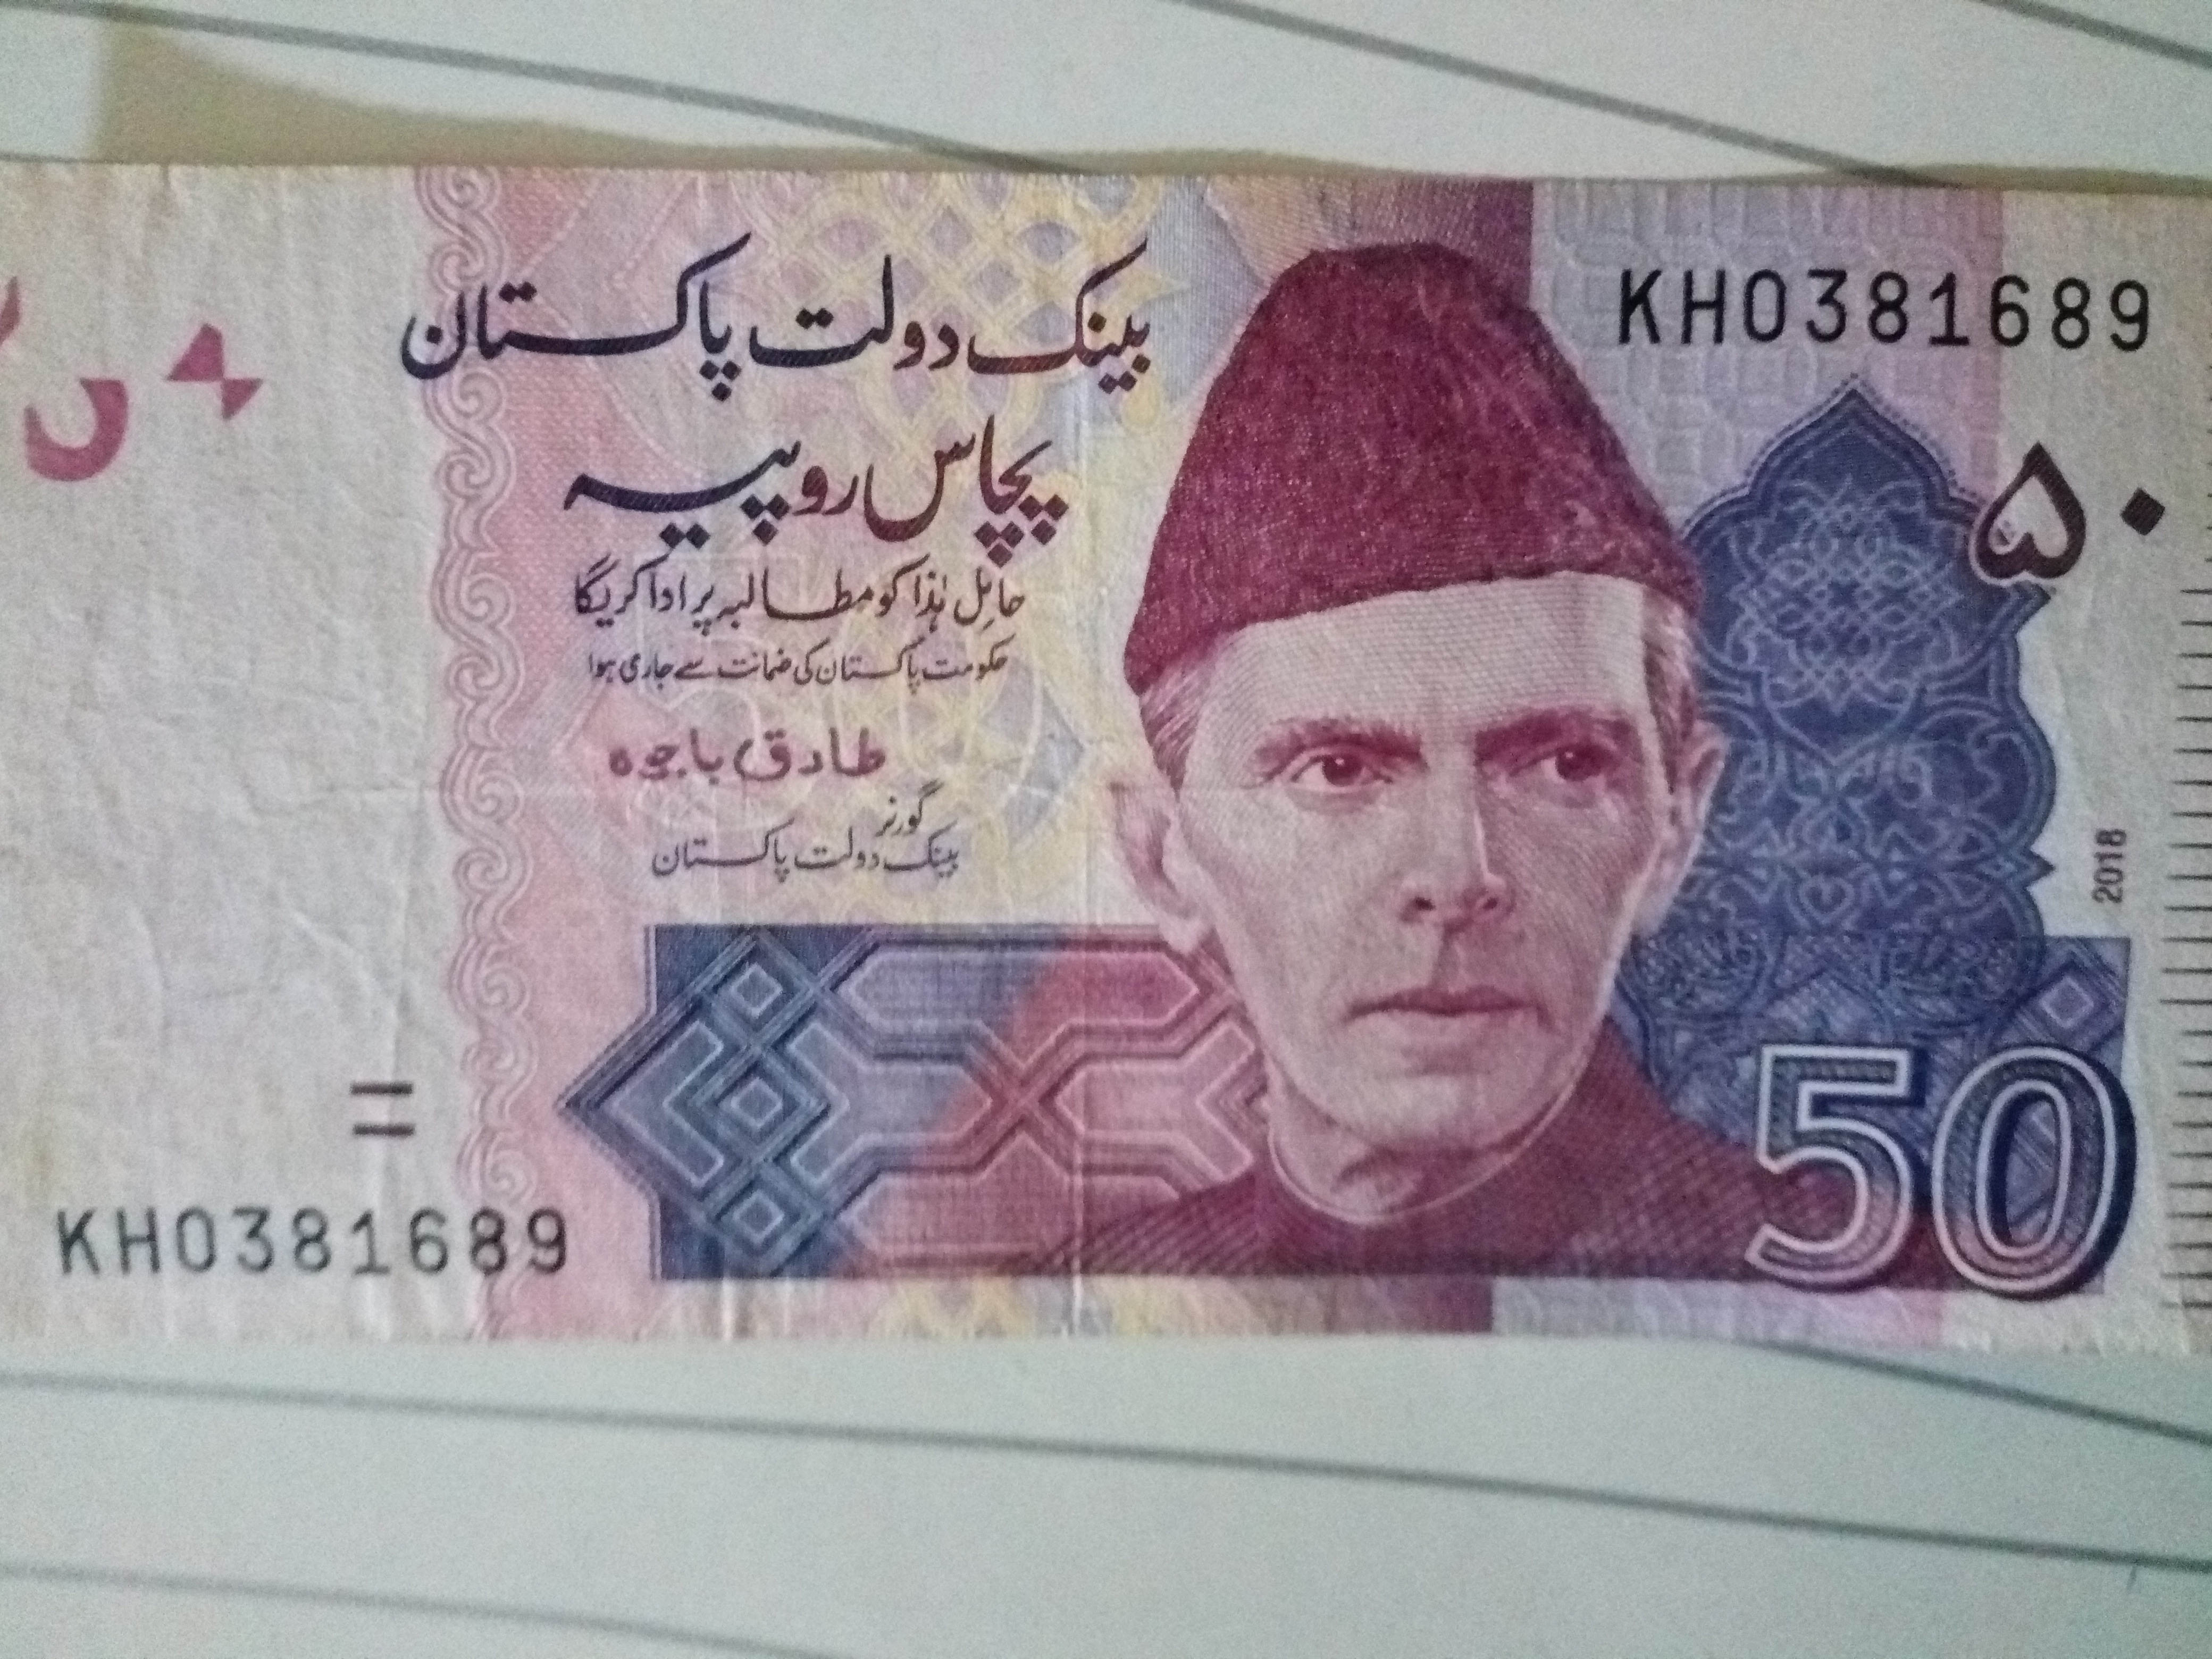50 rupee: (16, 99, 2186, 1352)
